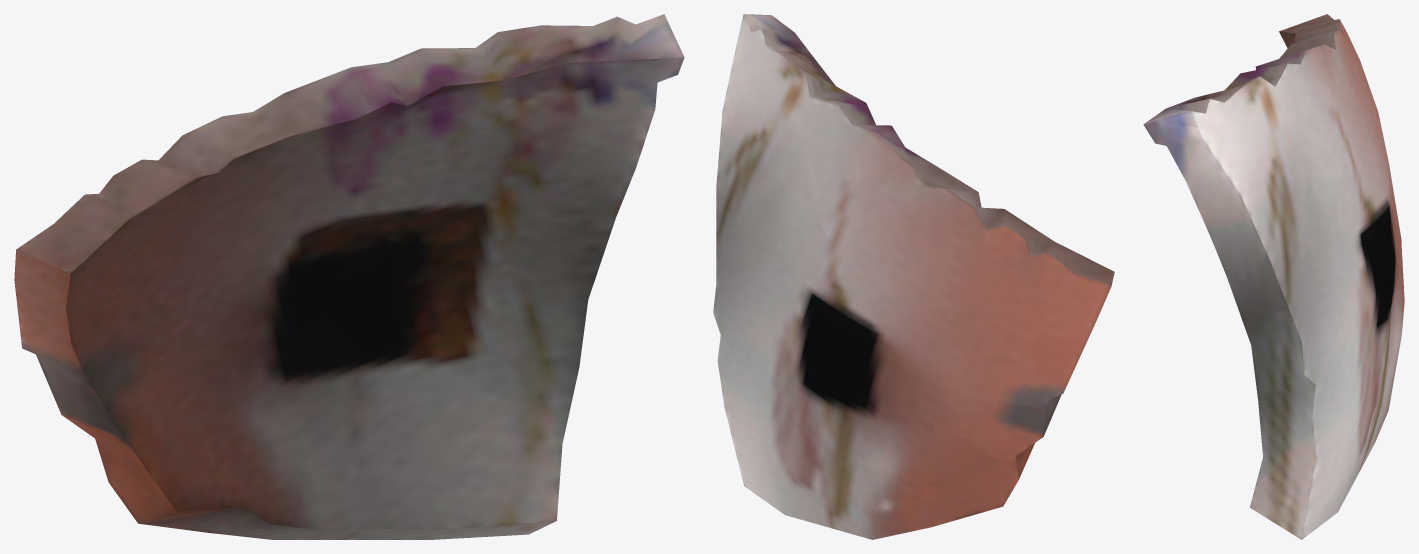
Rendered from Ceramic001.gltf.
3 views of the same model, side by side, from view 1: azimuth 30°, elevation 25°; view 2: azimuth 150°, elevation 25°; view 3: azimuth 270°, elevation 25° (orthographic). The views are drawn at different scales.
Visible parts, largest first — view 1: Ceramic001_002, Ceramic001_004, Ceramic001_001, Ceramic001_005, Ceramic001_003, Ceramic001; view 2: Ceramic001_004, Ceramic001_002, Ceramic001_001, Ceramic001_005, Ceramic001_003, Ceramic001; view 3: Ceramic001_002, Ceramic001_005, Ceramic001_004, Ceramic001_001, Ceramic001_003.
Part boxes in pixels (x1,y1,x2,y2): Ceramic001_002: (317, 46, 684, 537); Ceramic001_004: (14, 70, 374, 385); Ceramic001_001: (225, 282, 475, 539); Ceramic001_005: (345, 14, 678, 190); Ceramic001_003: (103, 313, 288, 539); Ceramic001: (43, 322, 202, 464); Ceramic001_004: (819, 134, 1114, 410); Ceramic001_002: (713, 15, 847, 501); Ceramic001_001: (767, 334, 906, 538); Ceramic001_005: (739, 14, 898, 246); Ceramic001_003: (868, 363, 1034, 539); Ceramic001: (922, 370, 1061, 470); Ceramic001_002: (1143, 120, 1386, 539); Ceramic001_005: (1149, 50, 1355, 168); Ceramic001_004: (1277, 14, 1394, 242); Ceramic001_001: (1322, 214, 1397, 523); Ceramic001_003: (1374, 207, 1404, 444).
Bounding box in the file's own units: 0.107 × 0.1004 × 0.0518.
1 material, 1 textured.
